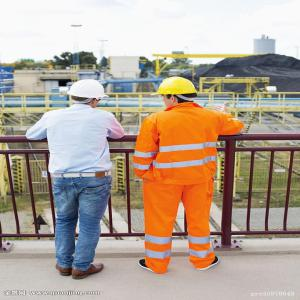white: (68, 80, 108, 110)
yellow: (154, 77, 199, 110)
